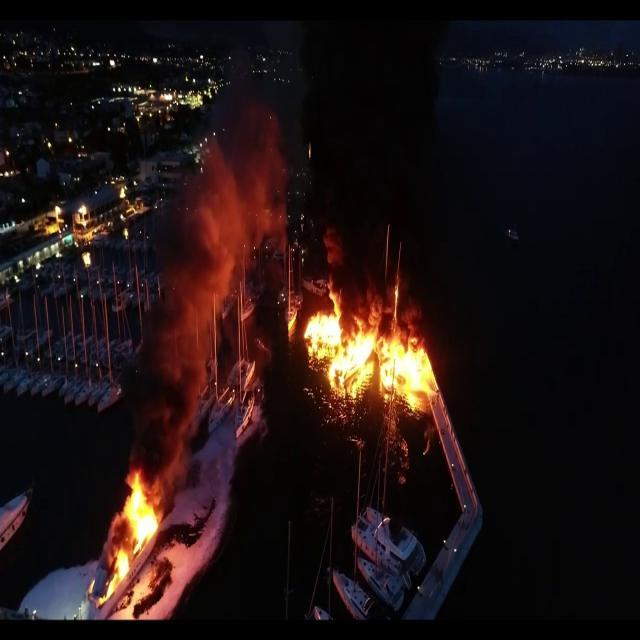Fire: (298, 283, 435, 415), (101, 466, 163, 606)
Smoke: (154, 78, 292, 340)
